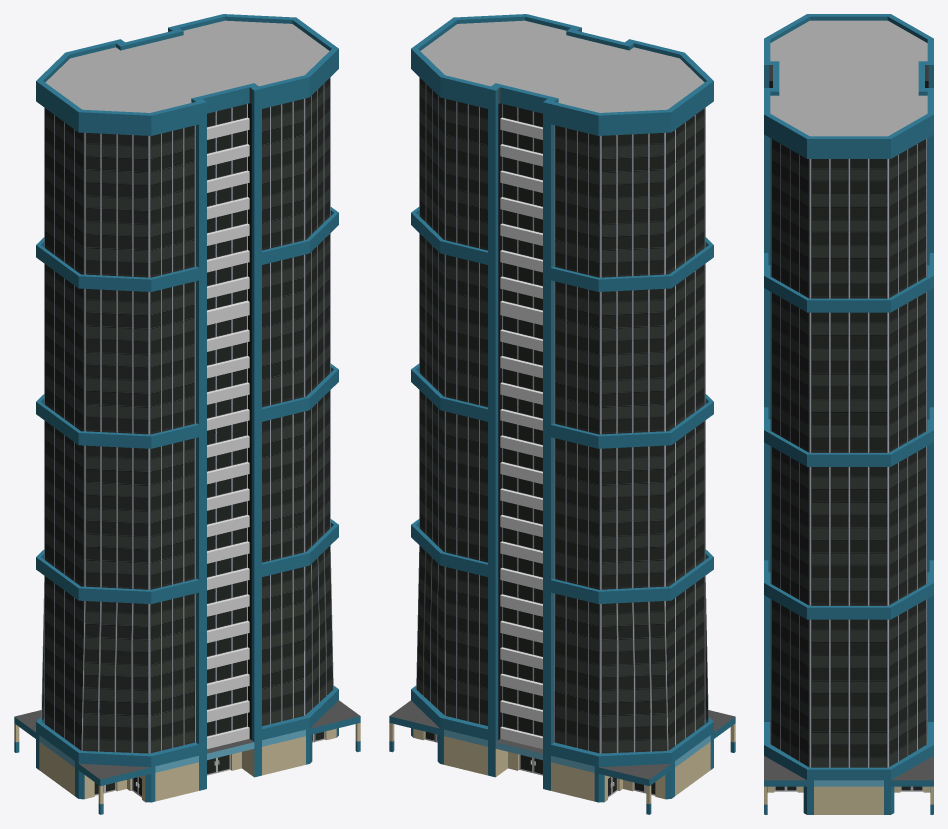
3 views of the same model, side by side, from view 1: azimuth 30°, elevation 25°; view 2: azimuth 150°, elevation 25°; view 3: azimuth 270°, elevation 25° (orthographic).
Parts seen in each view (by area): view 1: BC-10; view 2: BC-10; view 3: BC-10.
Part boxes in pixels (x1=…): BC-10: x1=14, y1=14, x2=360, y2=814; BC-10: x1=389, y1=14, x2=735, y2=814; BC-10: x1=764, y1=14, x2=933, y2=814.
Size of what is drawn, in the model's own units: 30.89 by 77.85 by 17.71.
